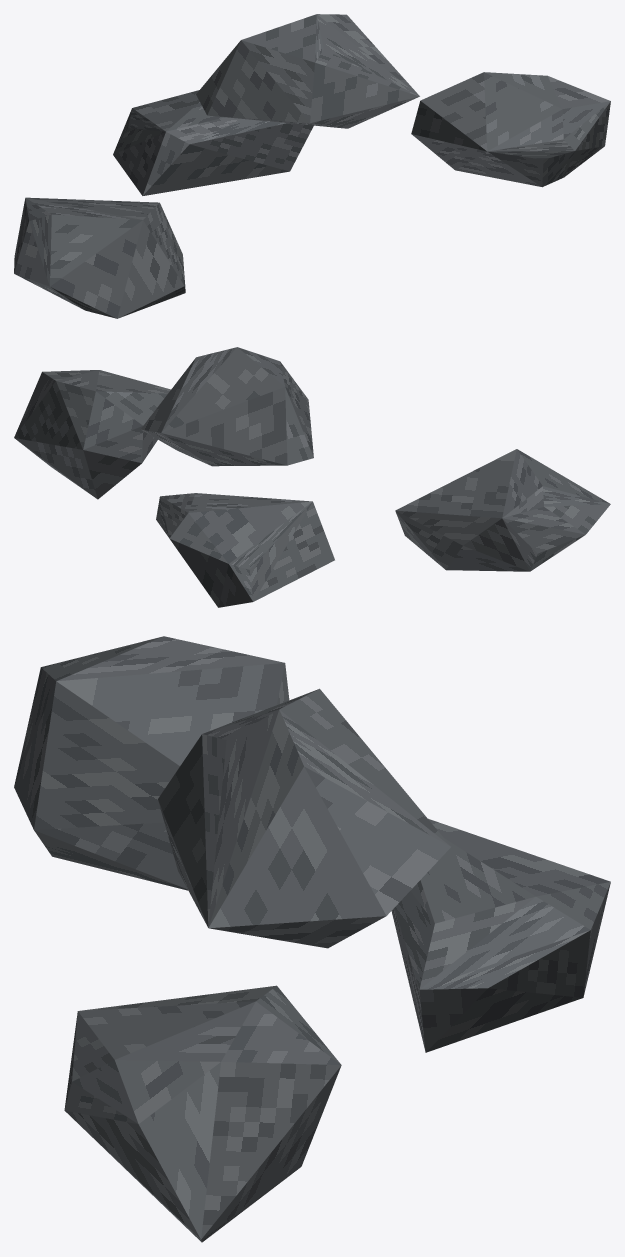
The model's file is lead.glb.
The picture shows the model from 3 angles, top to bottom: view 1: azimuth 30°, elevation 25°; view 2: azimuth 150°, elevation 25°; view 3: azimuth 270°, elevation 25°; orthographic projection. The views are drawn at different scales.
Visible parts, largest first — view 1: block_lump3, block_lump1, block_lump2, block_lump0; view 2: block_lump2, block_lump3, block_lump0, block_lump1; view 3: block_lump3, block_lump1, block_lump2, block_lump0.
Boxes of the visible parts, x1,y1,x2,y2 form: block_lump3: [196, 14, 419, 128]; block_lump1: [411, 72, 610, 187]; block_lump2: [14, 197, 185, 318]; block_lump0: [113, 90, 313, 195]; block_lump2: [395, 449, 610, 571]; block_lump3: [140, 347, 313, 466]; block_lump0: [156, 493, 334, 607]; block_lump1: [14, 370, 170, 499]; block_lump3: [158, 688, 450, 948]; block_lump1: [64, 985, 341, 1242]; block_lump2: [14, 636, 289, 890]; block_lump0: [391, 818, 610, 1052].
Size of the model in its own units: 0.0953 by 0.0303 by 0.0474.
Materials: 1 (1 with a texture image).
